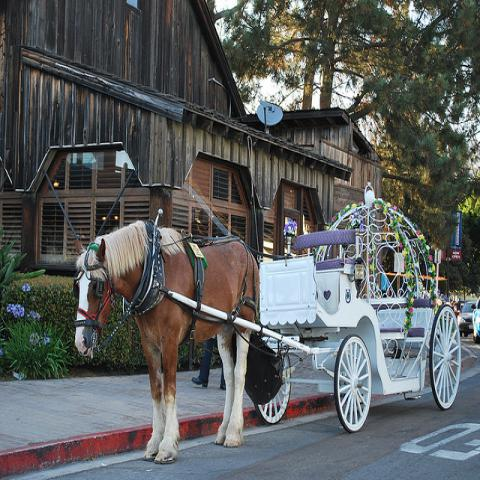car: (458, 300, 476, 336), (472, 296, 479, 342)
